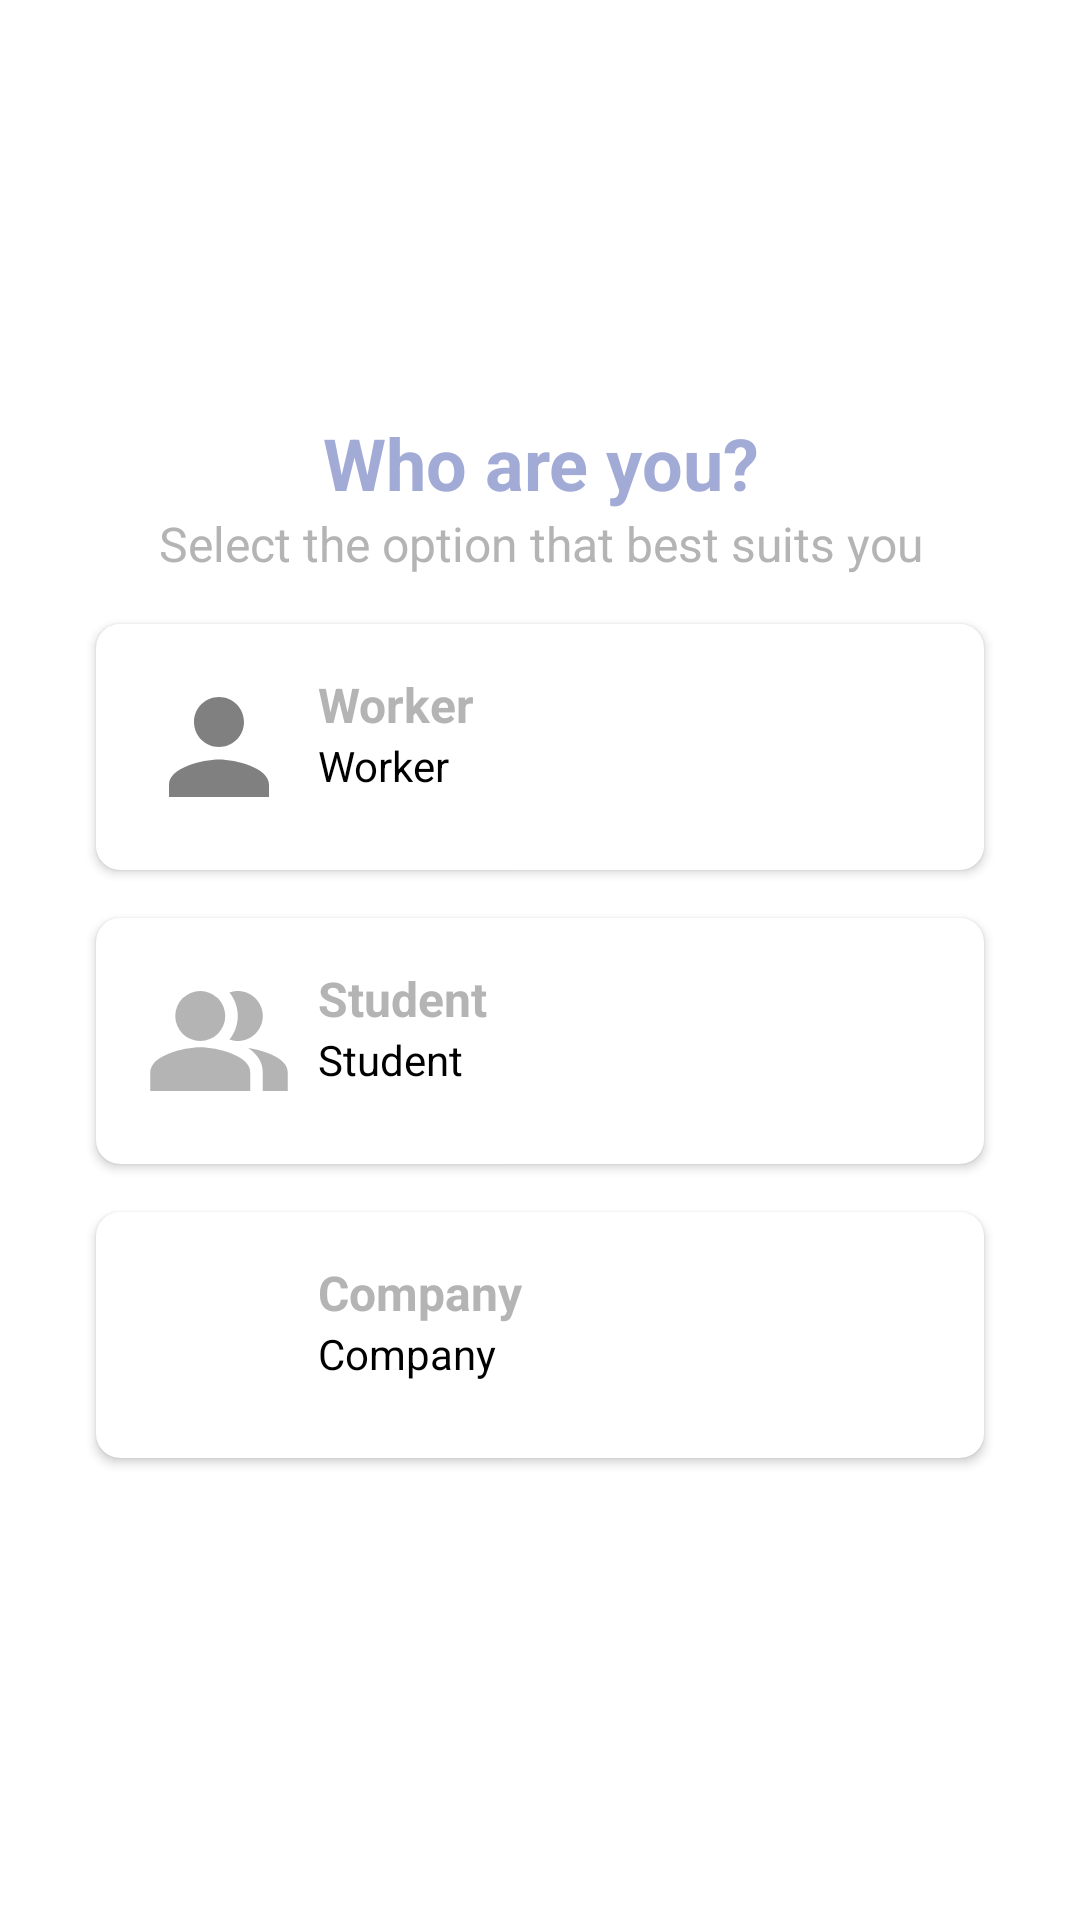

Point at icon controls on the screen. Image size 1080×1920, points as point (x, y).
user: point (219, 747)
